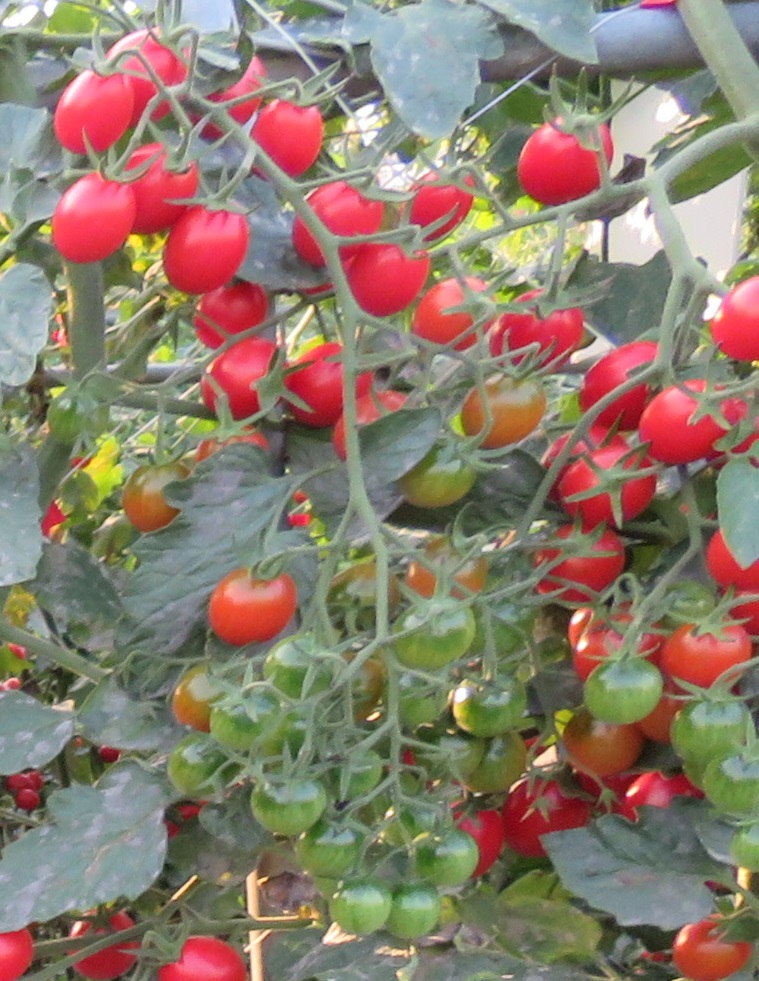green: (677, 694, 756, 790), (578, 656, 666, 724), (390, 597, 476, 666), (118, 458, 191, 535), (396, 447, 483, 509), (449, 673, 529, 739), (203, 698, 298, 751), (260, 630, 335, 694), (251, 772, 325, 835), (456, 733, 527, 796), (381, 667, 452, 726), (413, 826, 480, 887), (328, 878, 396, 937), (700, 754, 759, 818), (296, 825, 358, 880), (390, 885, 447, 942), (46, 389, 94, 449), (167, 741, 217, 796), (731, 822, 759, 876)
orange: (408, 275, 500, 354), (213, 558, 295, 640), (462, 368, 542, 449), (406, 536, 488, 600), (558, 720, 648, 776), (169, 660, 234, 730)
red: (514, 111, 615, 209), (554, 443, 669, 524), (157, 195, 251, 294), (498, 769, 599, 855), (51, 168, 134, 266), (52, 55, 133, 155), (292, 181, 386, 266), (579, 340, 671, 425), (194, 332, 285, 417), (347, 228, 431, 316), (110, 27, 189, 119), (644, 387, 740, 461), (258, 79, 328, 180), (125, 140, 199, 233), (500, 289, 588, 367), (536, 528, 619, 608), (663, 613, 753, 685), (275, 342, 352, 416), (66, 909, 141, 981), (333, 390, 409, 461), (191, 281, 270, 349), (667, 922, 759, 977), (411, 163, 472, 241), (708, 275, 759, 364), (158, 935, 249, 981), (455, 806, 505, 878), (707, 526, 759, 591), (1, 925, 34, 981), (14, 786, 41, 812), (8, 772, 33, 794)
